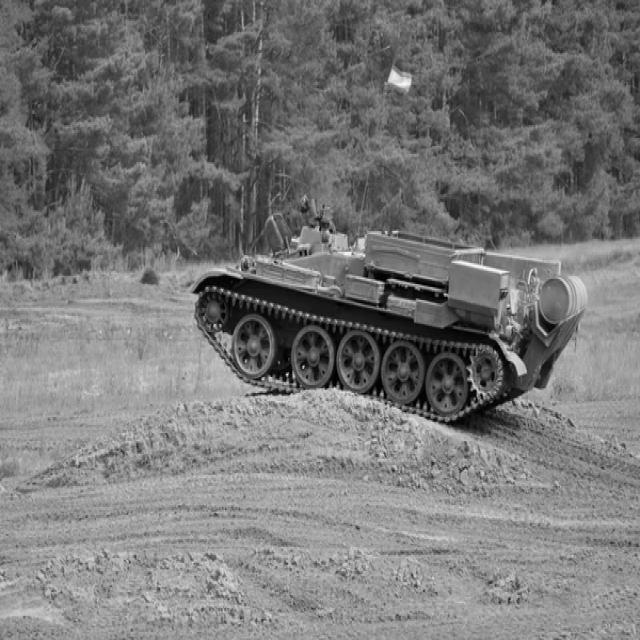Tank: (188, 180, 584, 428)
